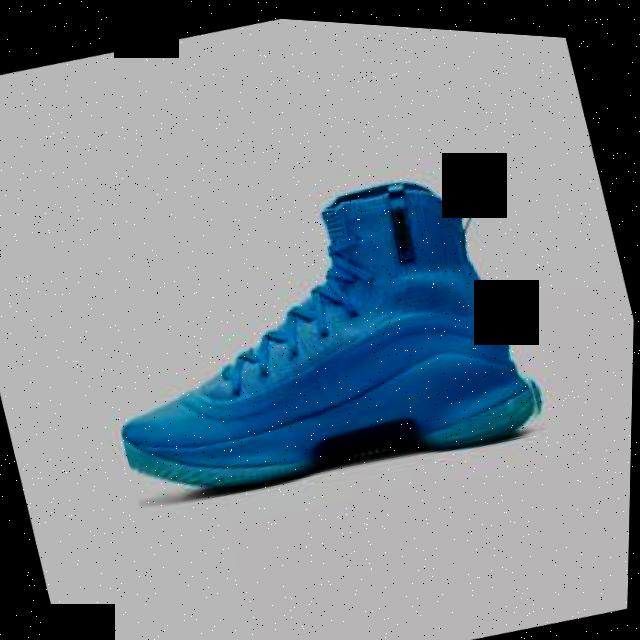shoe: (72, 133, 557, 532)
